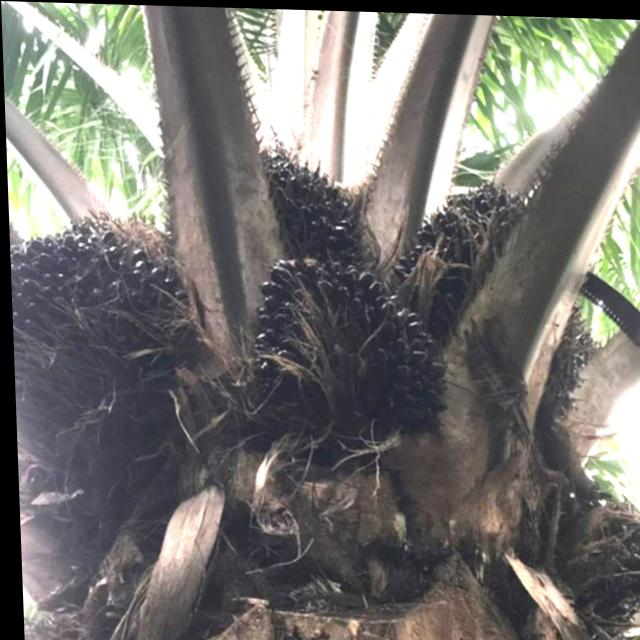almost: (225, 239, 455, 458)
